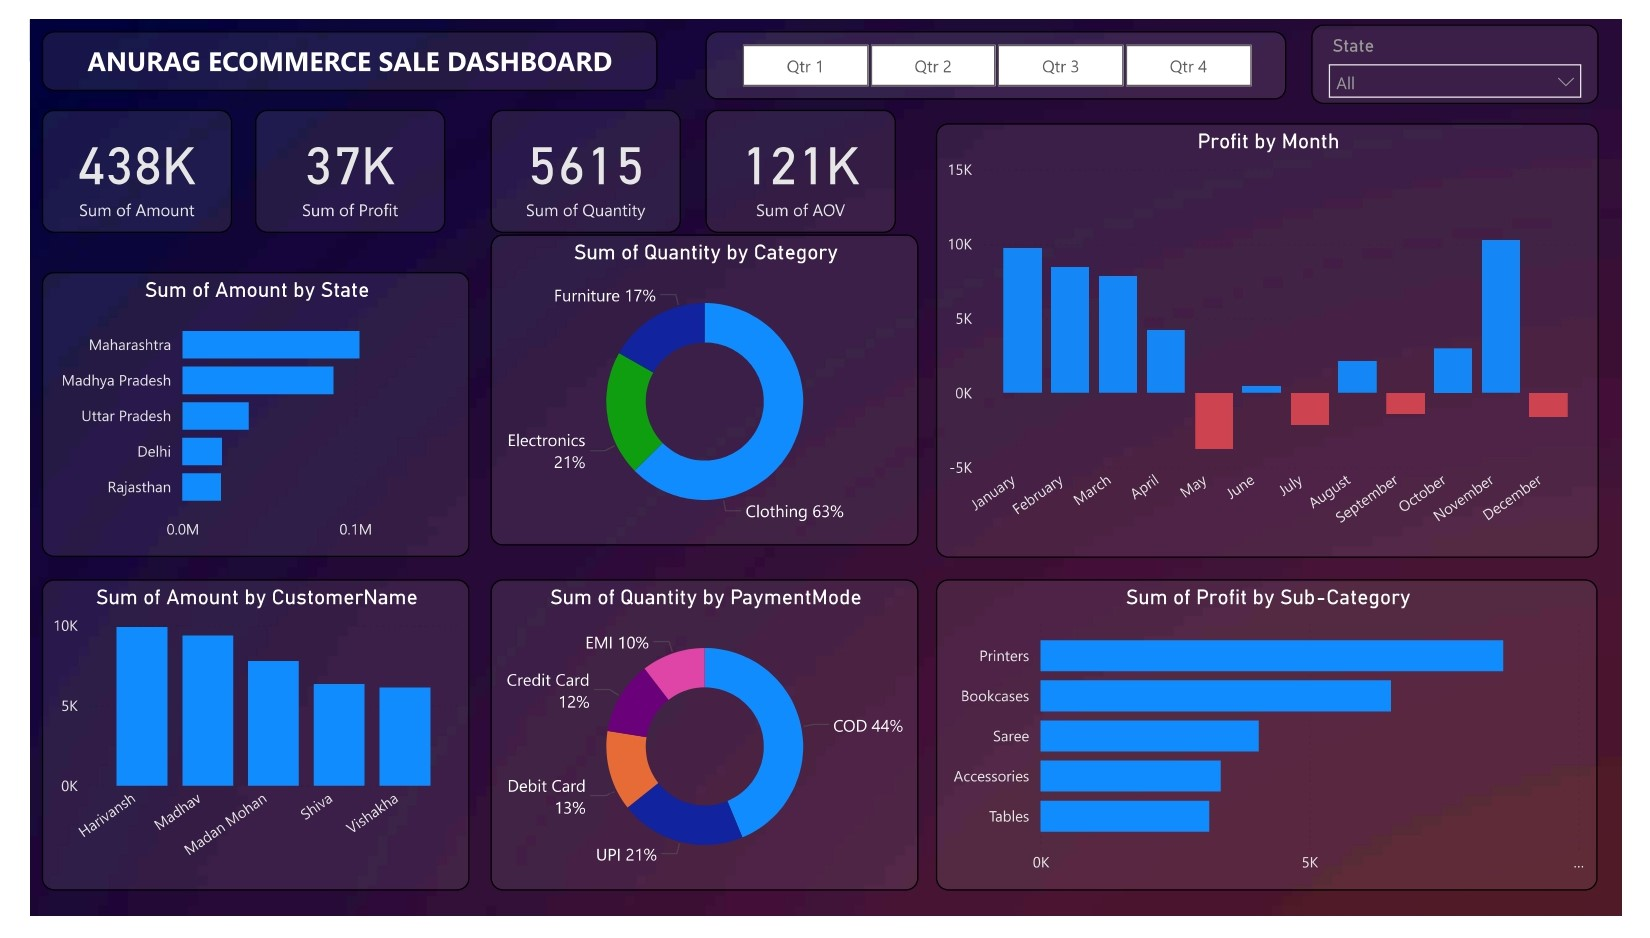

The page's visual inventory and layout, read from the dashboard file:
{"tool":"powerbi","page":{"name":"Page 1","canvas":[1280,720],"ordinal":0},"visuals":[{"type":"textbox","box":[9.6,9.6,495.4,48],"z":0},{"type":"columnChart","title":"Profit by Month","fields":{"Category":["Orders.Order Date.Variation.Date Hierarchy.Month"],"Y":["Details.Profit"]},"box":[728.6,84.3,532.9,348.6],"z":1000},{"type":"barChart","fields":{"Category":["Details.Sub-Category"],"Y":["Details.Profit"]},"box":[728.6,450.1,532.4,249.7],"z":2000},{"type":"donutChart","fields":{"Category":["Details.Category"],"Y":["Details.Quantity"]},"box":[370.5,172.9,344.4,249.7],"z":3000},{"type":"donutChart","fields":{"Y":["Details.Quantity"],"Category":["Details.PaymentMode"]},"box":[370.5,450.1,344.4,249.7],"z":4000},{"type":"card","fields":{"Values":["Details.Amount"]},"box":[10,72.9,152.9,98.6],"z":5000},{"type":"card","fields":{"Values":["Details.Profit"]},"box":[181.4,72.9,152.9,98.6],"z":6000},{"type":"card","fields":{"Values":["Details.Quantity"]},"box":[370,72.9,152.9,98.6],"z":7000},{"type":"card","fields":{"Values":["Details.AOV"]},"box":[542.9,72.9,152.9,98.6],"z":8000},{"type":"barChart","fields":{"Category":["Orders.State"],"Y":["Details.Amount"]},"box":[9.6,203.1,344.4,229.2],"z":9000},{"type":"columnChart","fields":{"Category":["Orders.CustomerName"],"Y":["Details.Amount"]},"box":[10,450,344,250],"z":10000},{"type":"slicer","fields":{"Values":["Orders.Order Date.Variation.Date Hierarchy.Quarter"]},"box":[543.4,9.6,466.6,54.9],"z":11000},{"type":"slicer","fields":{"Values":["Orders.State"]},"box":[1030,4.3,231.4,64.3],"z":12000}]}

Visuals, with their boxes in screenshot pixels (x1, y1, x2, y2), scaled from the page's 1280x720 canvas onto the 1650x938 screenshot:
textbox: detection(12, 13, 651, 75)
"Profit by Month" columnChart: detection(939, 110, 1626, 564)
barChart - Details.Sub-Category x Details.Profit: detection(939, 586, 1626, 912)
donutChart - Details.Category x Details.Quantity: detection(478, 225, 922, 551)
donutChart - Details.Quantity x Details.PaymentMode: detection(478, 586, 922, 912)
card - Details.Amount: detection(13, 95, 210, 223)
card - Details.Profit: detection(234, 95, 431, 223)
card - Details.Quantity: detection(477, 95, 674, 223)
card - Details.AOV: detection(700, 95, 897, 223)
barChart - Orders.State x Details.Amount: detection(12, 265, 456, 563)
columnChart - Orders.CustomerName x Details.Amount: detection(13, 586, 456, 912)
slicer - Orders.Order Date.Variation.Date Hierarchy.Quarter: detection(700, 13, 1302, 84)
slicer - Orders.State: detection(1328, 6, 1626, 89)
